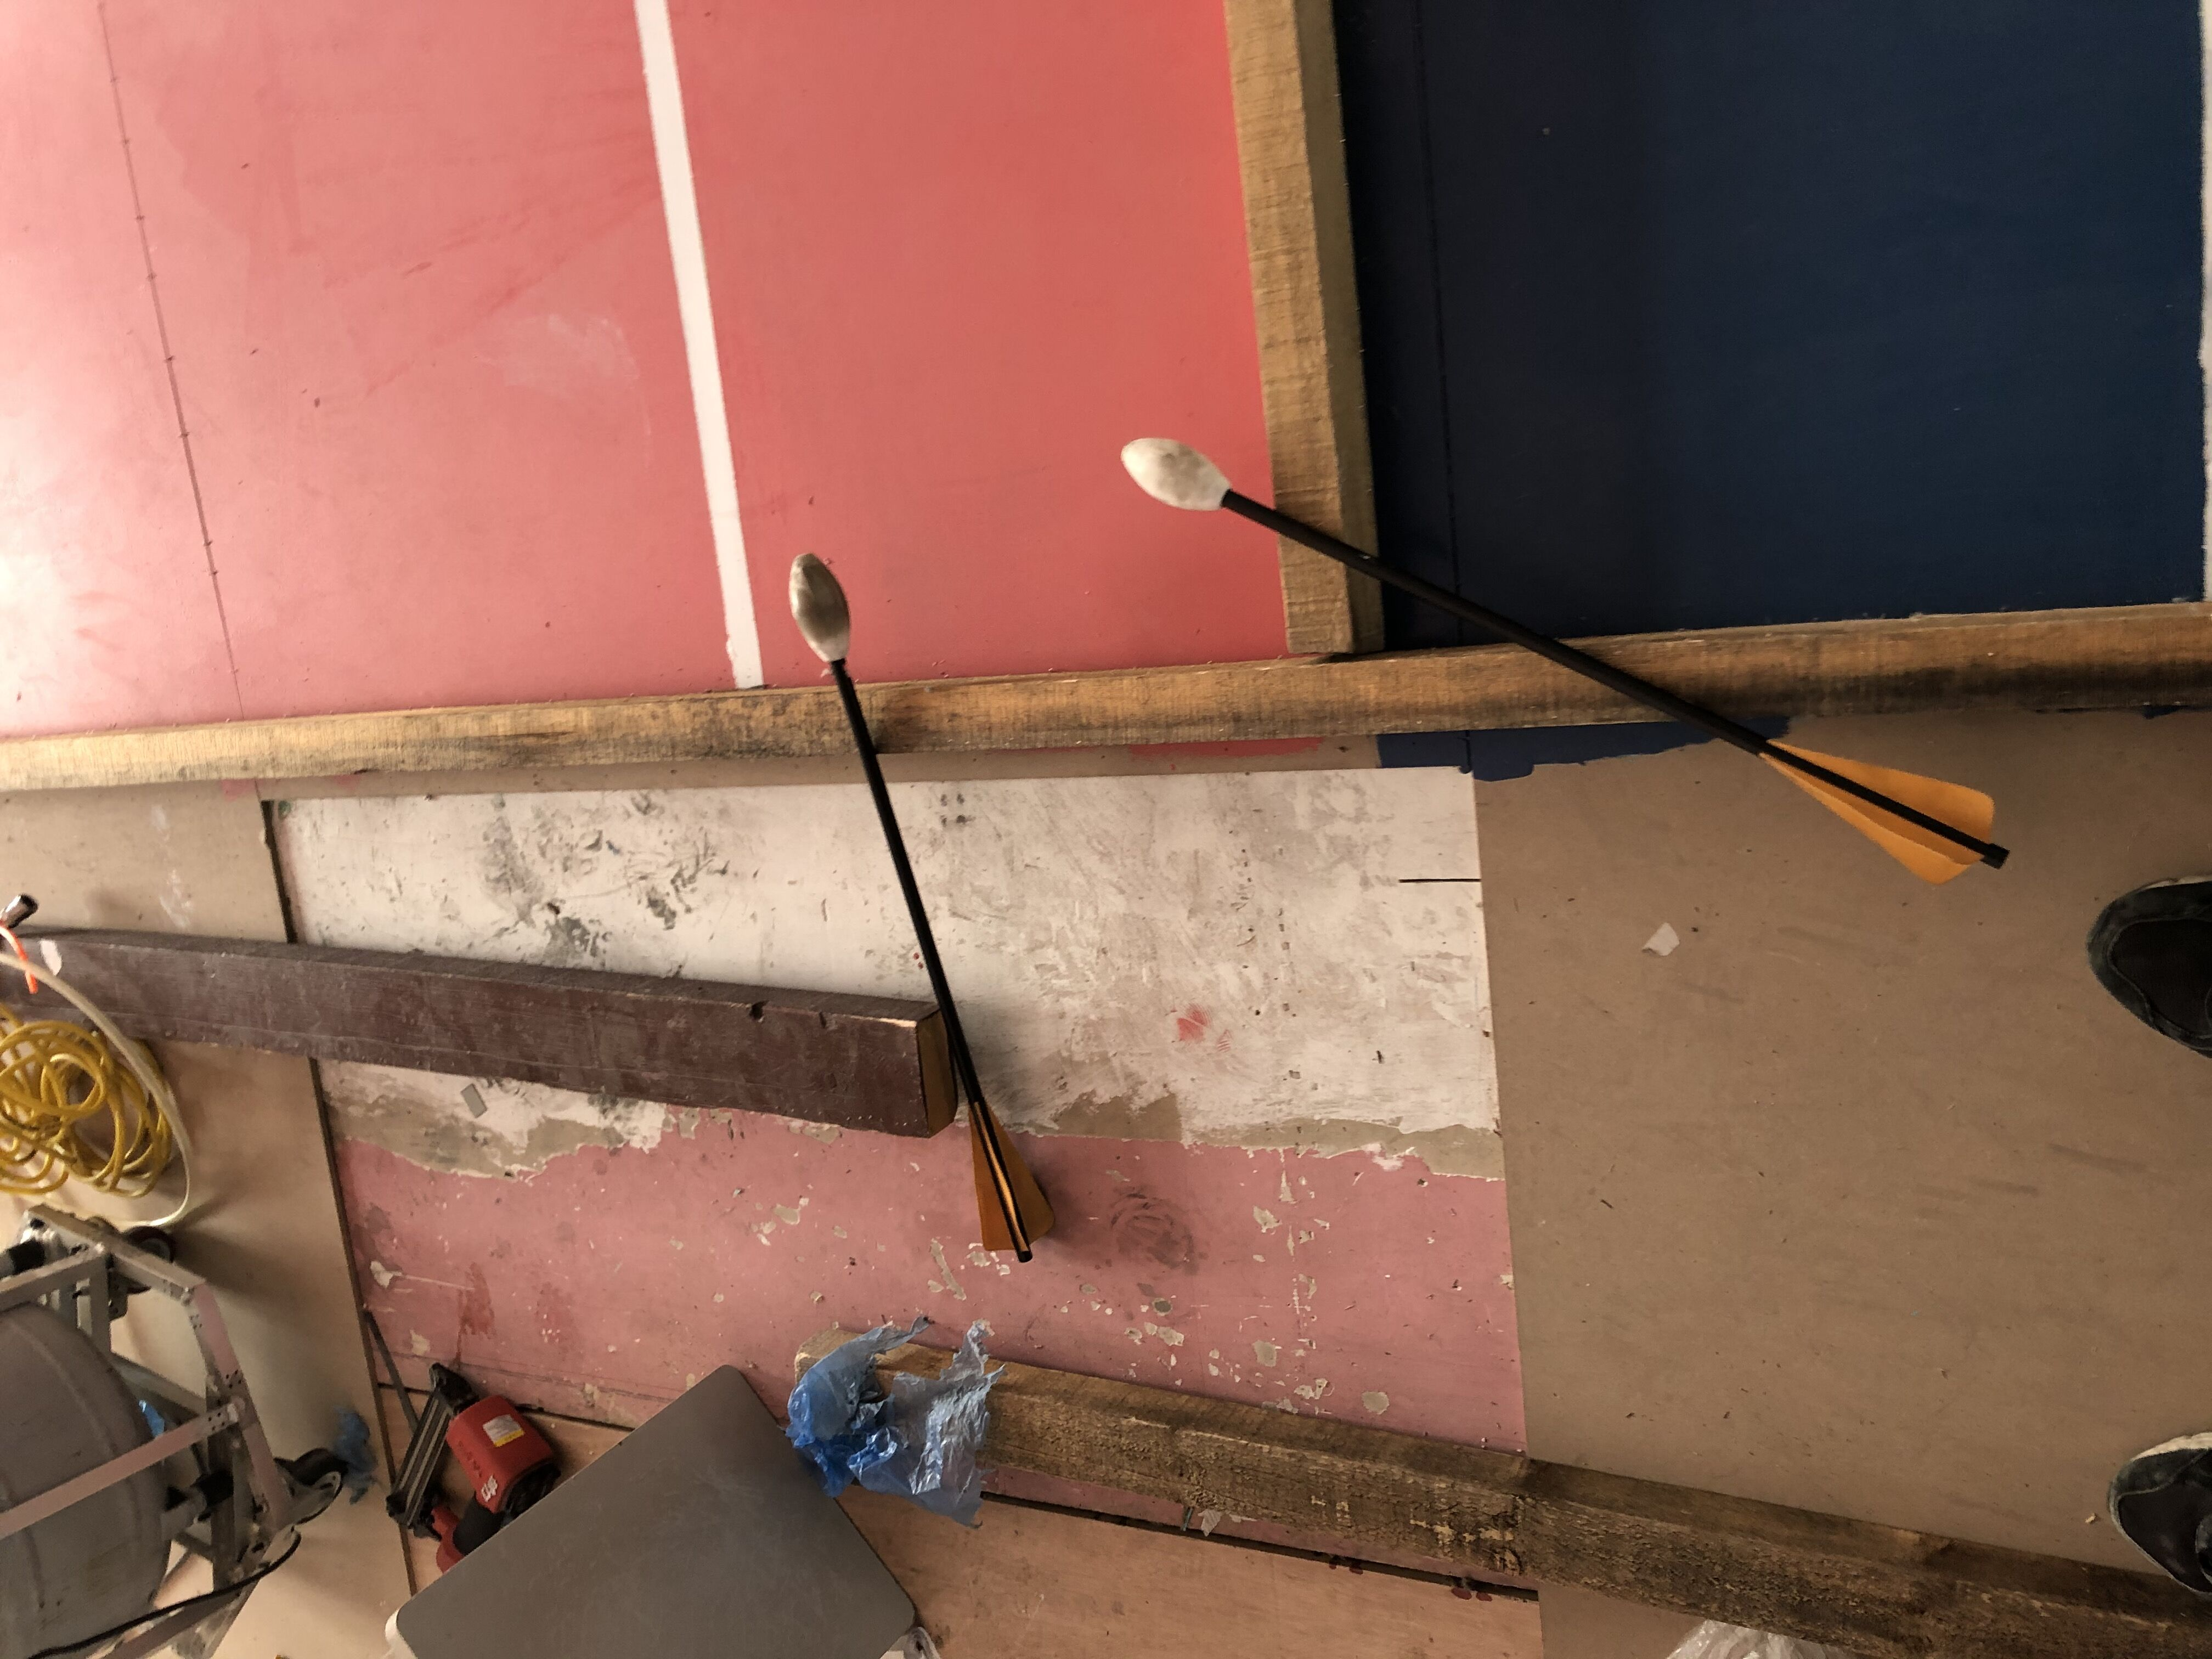arrow: (1123, 437, 2012, 875), (786, 552, 1052, 1258)
arrowFront: (1122, 434, 1237, 512), (786, 547, 855, 671)
